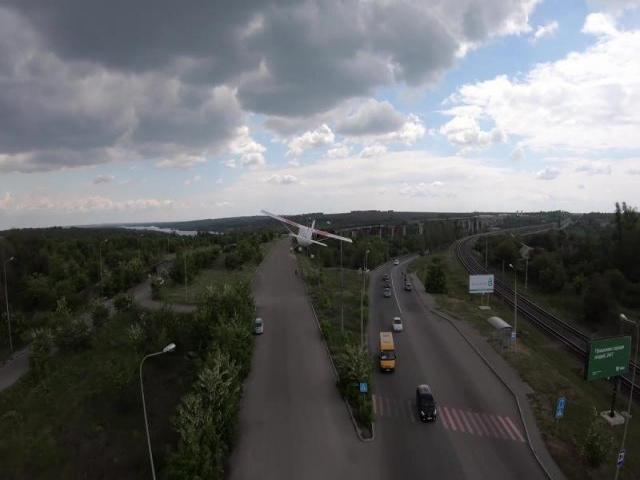hedef: (252, 206, 358, 264)
